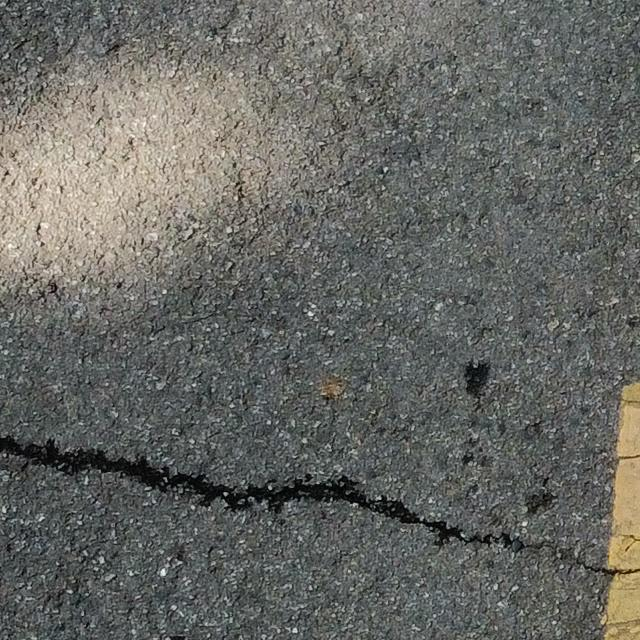TransverseCrack: (1, 437, 640, 575)
